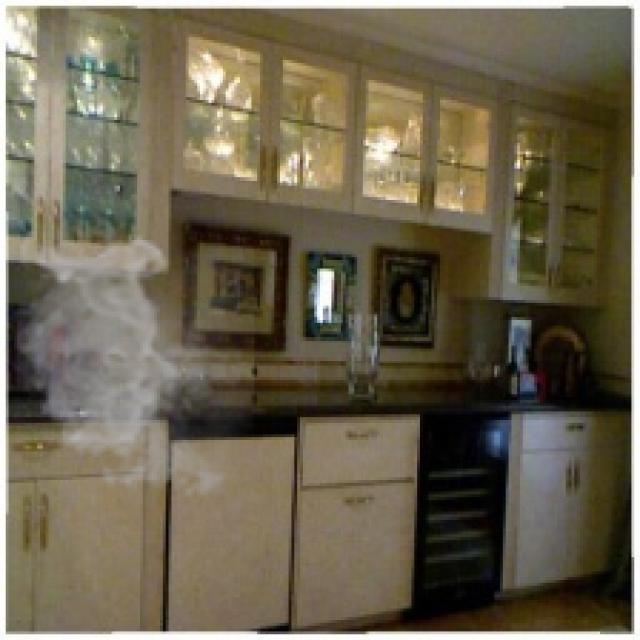smoke: (6, 231, 254, 506)
